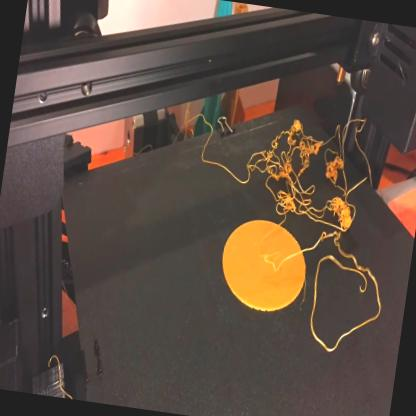fail: (240, 111, 380, 234), (294, 230, 401, 365)
